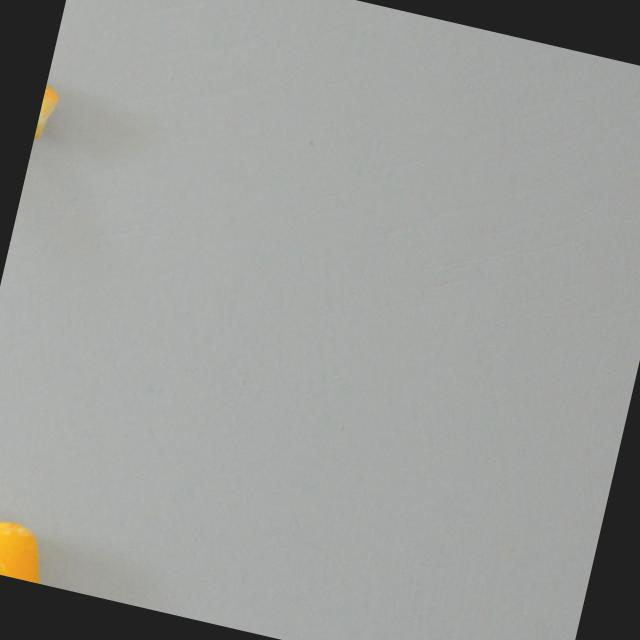dañado: (0, 515, 65, 586), (32, 64, 75, 151)
